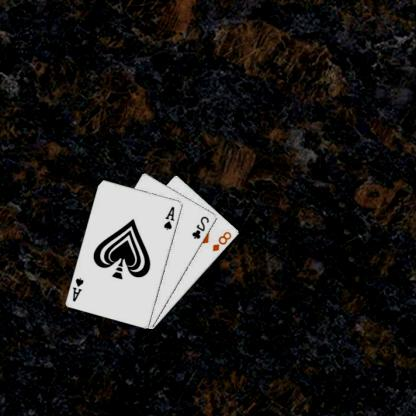2C: (191, 214, 212, 240)
8D: (211, 229, 235, 252)
AS: (163, 204, 178, 231), (72, 274, 86, 302)
